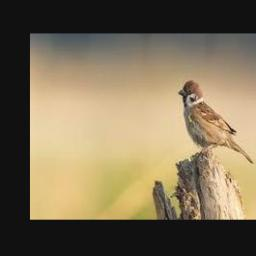Sparrow: (179, 80, 254, 164)
